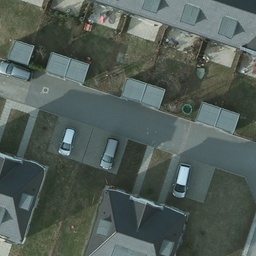car: (0, 58, 34, 81), (172, 163, 190, 199), (100, 137, 118, 170), (60, 127, 75, 156)
